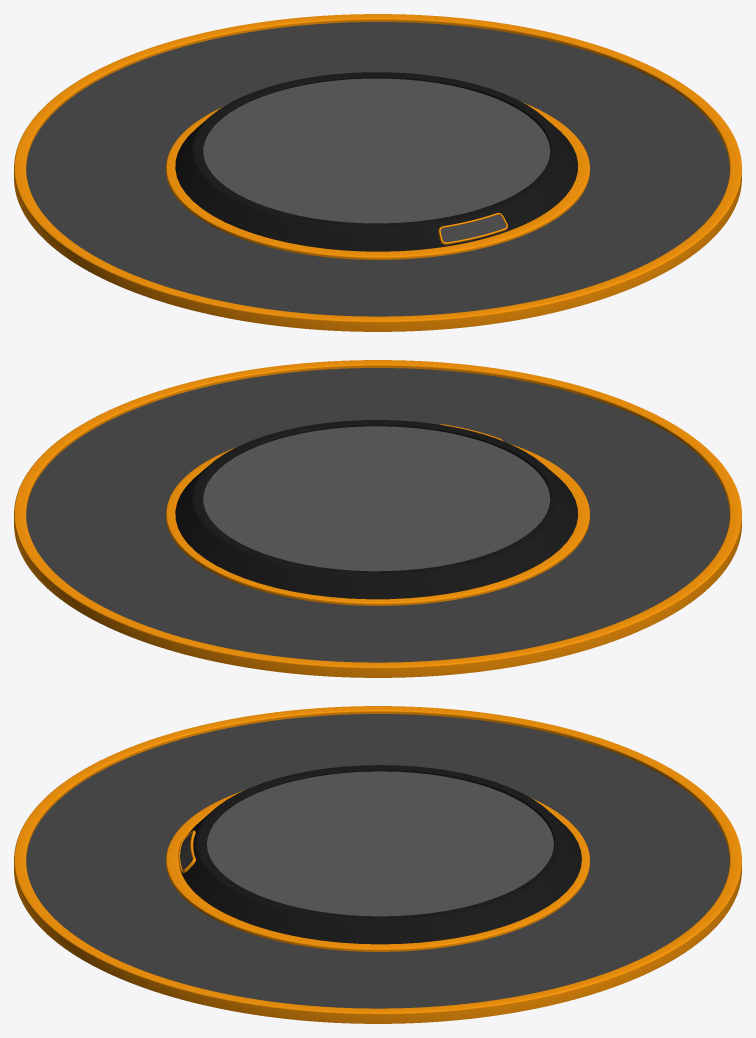
File: CarSelect_Stand.FBX
3 renders of one model, top to bottom at view 1: azimuth 30°, elevation 25°; view 2: azimuth 150°, elevation 25°; view 3: azimuth 270°, elevation 25°, orthographic.
Parts seen in each view (by area): view 1: Track, Plane, Stand, Stand001; view 2: Track, Plane, Stand; view 3: Track, Plane, Stand, Stand001.
Boxes of the visible parts, x1,y1,x2,y2 form: Track: (14, 14, 741, 331); Plane: (203, 78, 550, 223); Stand: (175, 72, 577, 251); Stand001: (438, 213, 507, 244); Track: (14, 360, 741, 677); Plane: (203, 426, 550, 571); Stand: (175, 420, 577, 599); Track: (14, 706, 741, 1023); Plane: (207, 771, 553, 916); Stand: (179, 765, 581, 944); Stand001: (178, 830, 195, 873).
Size of the model in its own units: 1649 by 69.23 by 1649.
